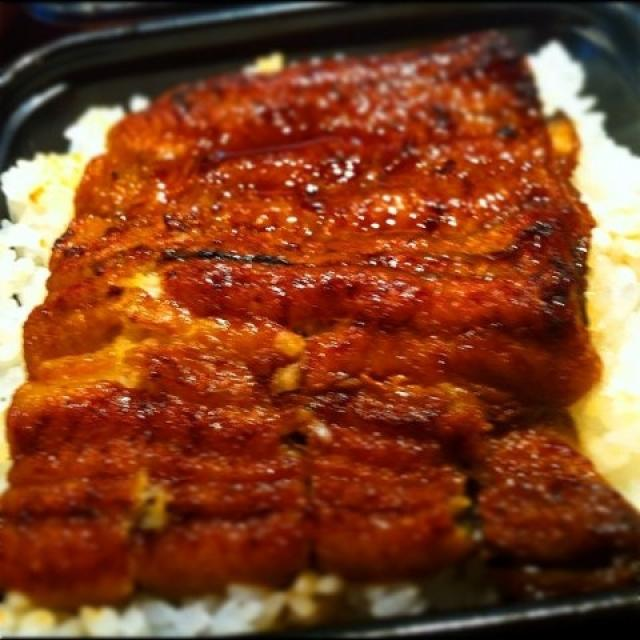熟制海鲜: (17, 21, 620, 611)
